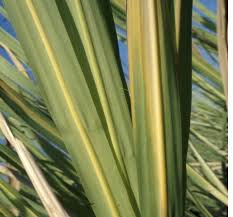Diseased_Leaves: (125, 3, 161, 92), (60, 90, 96, 156), (149, 115, 170, 197)
